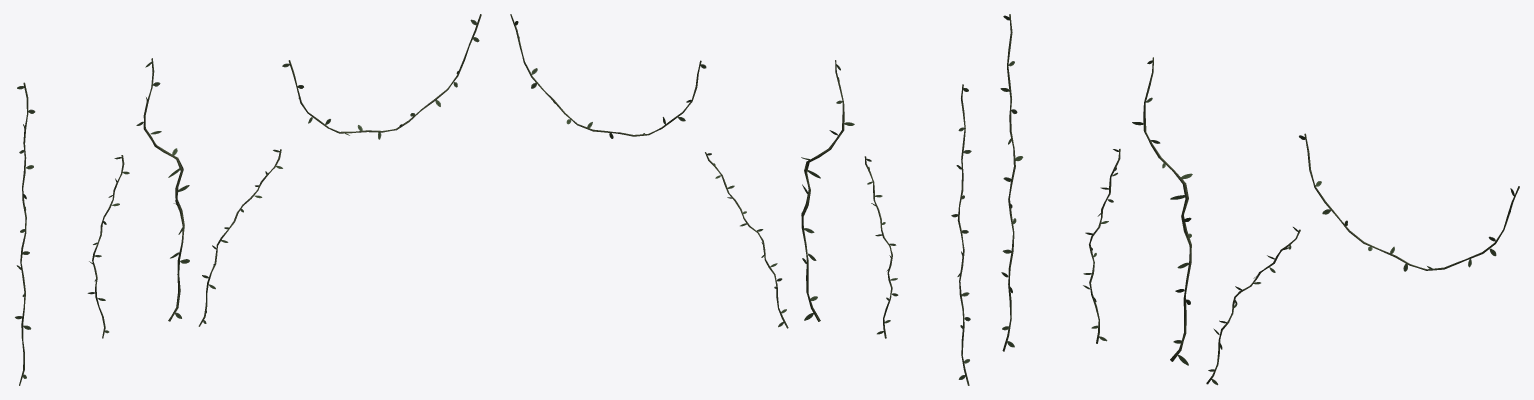
Rendered from vine_grp.fbx.
The picture shows the model from 3 angles, left to right: view 1: azimuth 30°, elevation 25°; view 2: azimuth 150°, elevation 25°; view 3: azimuth 330°, elevation 25°; orthographic projection. The views are drawn at different scales.
Parts seen in each view (by area): view 1: vine_02, vine_04, vine_05, vine_01, vine_03; view 2: vine_02, vine_05, vine_04, vine_01, vine_03; view 3: vine_02, vine_05, vine_04, vine_03, vine_01.
Boxes of the visible parts, x1,y1,x2,y2 form: vine_02: (136, 58, 189, 321); vine_04: (282, 14, 481, 139); vine_05: (15, 82, 35, 385); vine_01: (198, 149, 282, 326); vine_03: (87, 155, 129, 338); vine_02: (801, 60, 854, 321); vine_05: (951, 84, 971, 385); vine_04: (510, 14, 706, 138); vine_01: (705, 152, 788, 328); vine_03: (864, 156, 898, 338); vine_02: (1132, 57, 1192, 365); vine_05: (1000, 14, 1023, 351); vine_04: (1299, 133, 1519, 271); vine_03: (1083, 149, 1120, 343); vine_01: (1206, 227, 1300, 385).
Bounding box in the file's own units: 3.58 × 2.22 × 0.1929.
Materials: 1 (1 with a texture image).
